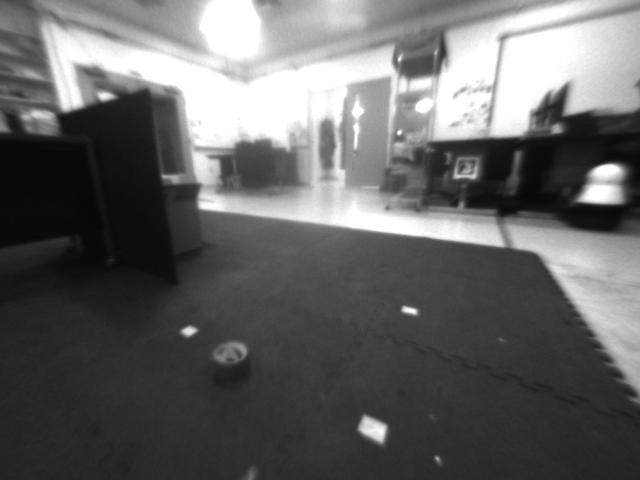dogtoy: (201, 335, 262, 384)
